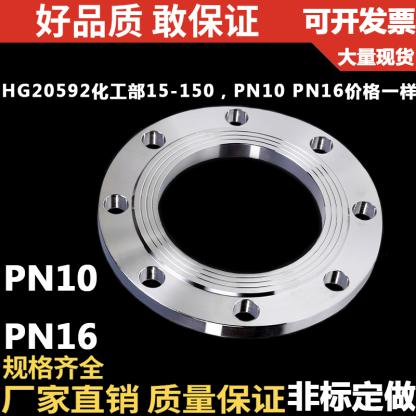FOD: (93, 100, 388, 342)
